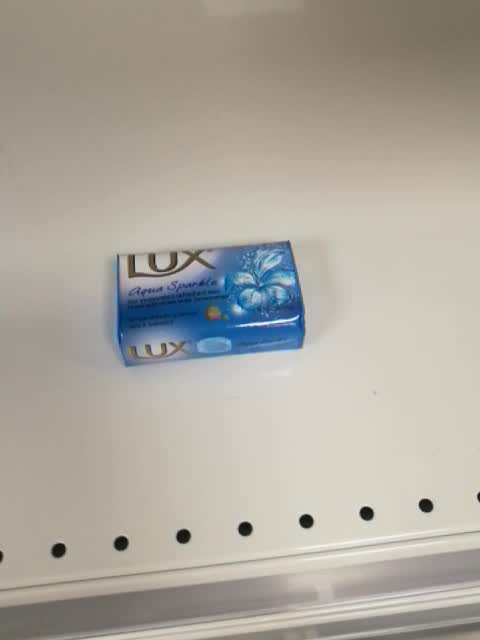soap: (112, 238, 307, 369)
